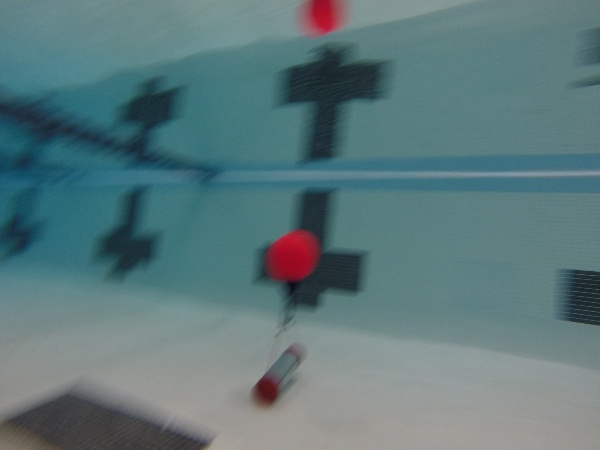buoy_red: (260, 230, 319, 298)
